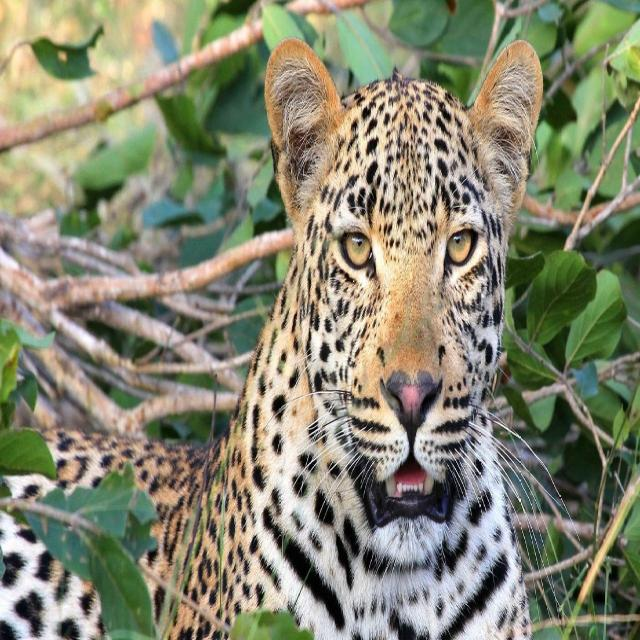Leopard: (163, 44, 546, 640)
